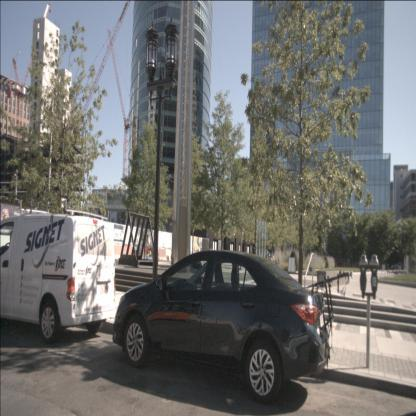vehicle-car: (112, 250, 330, 406), (0, 213, 115, 345), (391, 262, 406, 270), (336, 257, 346, 265)
